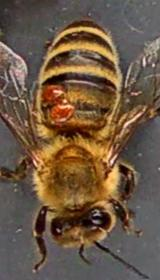varroa_mite: (30, 78, 74, 108), (47, 94, 74, 126)
